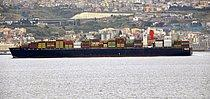Ship: (3, 34, 197, 65)
